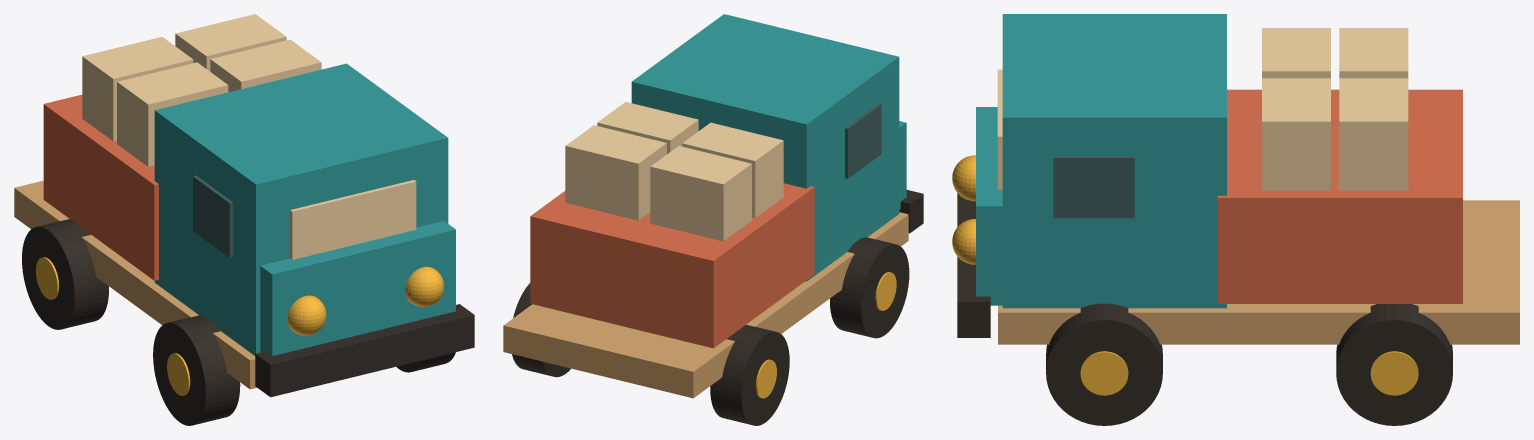
The model's file is truck-cargo.glb.
3 views of the same model, side by side, from view 1: azimuth 30°, elevation 25°; view 2: azimuth 150°, elevation 25°; view 3: azimuth 270°, elevation 25° (orthographic). The views are drawn at different scales.
Visible parts, largest first — view 1: Cargo_Cab, Cargo_Hood, Cargo_Bed, Cargo_Bumper, Cargo_Front_Window, Cargo_Chassis, Cargo_Wheel_1, Cargo_Wheel_3, Cargo_Crate_0_0, Cargo_Crate_1_0, Cargo_Crate_0_1, Cargo_Crate_1_1 (+6 smaller); view 2: Cargo_Cab, Cargo_Bed, Cargo_Chassis, Cargo_Crate_1_0, Cargo_Crate_1_1, Cargo_Wheel_1, Cargo_Wheel_3, Cargo_Crate_0_0, Cargo_Crate_0_1, Cargo_Left_Window, Cargo_Wheel_4, Cargo_Bumper (+3 smaller); view 3: Cargo_Cab, Cargo_Bed, Cargo_Chassis, Cargo_Wheel_4, Cargo_Wheel_2, Cargo_Crate_1_1, Cargo_Crate_0_1, Cargo_Right_Window, Cargo_Hood, Cargo_Crate_1_0, Cargo_Crate_0_0, Cargo_Bumper (+5 smaller).
Part boxes in pixels (left/top/right/bottom): Cargo_Cab: left=154, top=63, right=448, bottom=355; Cargo_Hood: left=260, top=221, right=455, bottom=355; Cargo_Bed: left=43, top=94, right=158, bottom=280; Cargo_Bumper: left=255, top=304, right=474, bottom=397; Cargo_Front_Window: left=290, top=180, right=416, bottom=259; Cargo_Chassis: left=14, top=180, right=256, bottom=389; Cargo_Wheel_1: left=153, top=315, right=240, bottom=425; Cargo_Wheel_3: left=22, top=219, right=108, bottom=329; Cargo_Crate_0_0: left=117, top=62, right=228, bottom=166; Cargo_Crate_1_0: left=82, top=37, right=193, bottom=141; Cargo_Crate_0_1: left=210, top=39, right=321, bottom=92; Cargo_Crate_1_1: left=175, top=14, right=286, bottom=71; Cargo_Cab: left=631, top=14, right=899, bottom=281; Cargo_Bed: left=530, top=183, right=814, bottom=348; Cargo_Chassis: left=503, top=212, right=908, bottom=398; Cargo_Crate_1_0: left=650, top=146, right=751, bottom=241; Cargo_Crate_1_1: left=565, top=125, right=666, bottom=220; Cargo_Wheel_1: left=830, top=237, right=909, bottom=338; Cargo_Wheel_3: left=710, top=324, right=789, bottom=425; Cargo_Crate_0_0: left=682, top=122, right=783, bottom=217; Cargo_Crate_0_1: left=597, top=102, right=698, bottom=154; Cargo_Left_Window: left=845, top=103, right=881, bottom=178; Cargo_Wheel_4: left=512, top=283, right=570, bottom=377; Cargo_Bumper: left=899, top=190, right=923, bottom=233; Cargo_Cab: left=1002, top=14, right=1226, bottom=308; Cargo_Bed: left=1217, top=89, right=1462, bottom=303; Cargo_Chassis: left=998, top=200, right=1519, bottom=344; Cargo_Wheel_4: left=1336, top=304, right=1452, bottom=425; Cargo_Wheel_2: left=1046, top=303, right=1162, bottom=425; Cargo_Crate_1_1: left=1339, top=78, right=1408, bottom=190; Cargo_Crate_0_1: left=1262, top=78, right=1330, bottom=190; Cargo_Right_Window: left=1053, top=156, right=1134, bottom=218; Cargo_Hood: left=976, top=107, right=1002, bottom=305; Cargo_Crate_1_0: left=1339, top=28, right=1408, bottom=78; Cargo_Crate_0_0: left=1262, top=28, right=1330, bottom=78; Cargo_Bumper: left=957, top=193, right=990, bottom=337.
Size of the model in its own units: 3.14 by 3.09 by 5.44.
